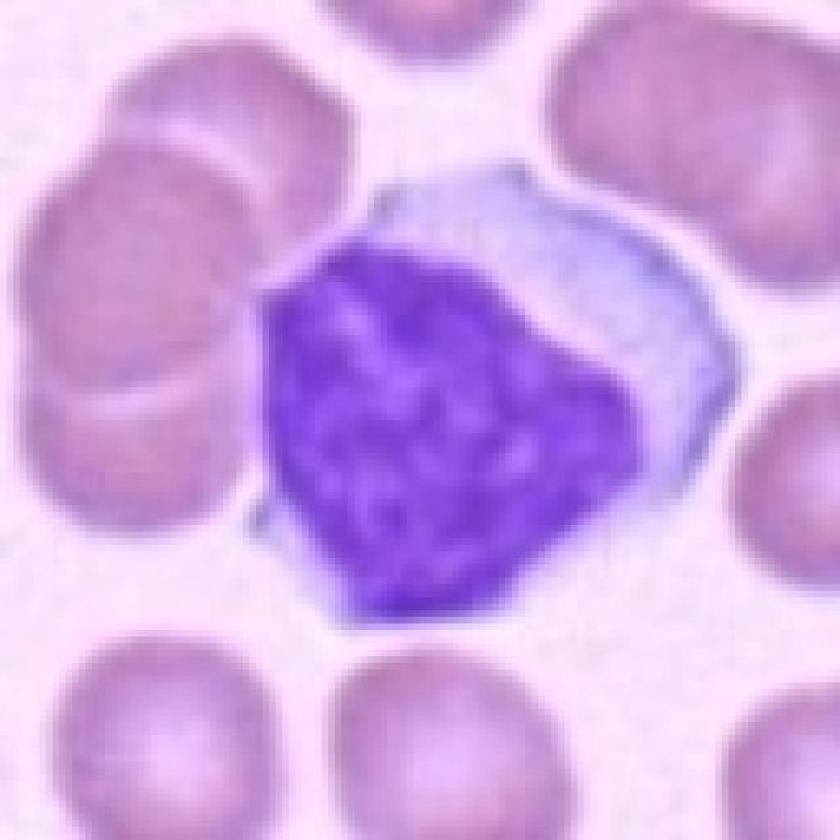lymphocyte: (240, 153, 746, 639)
